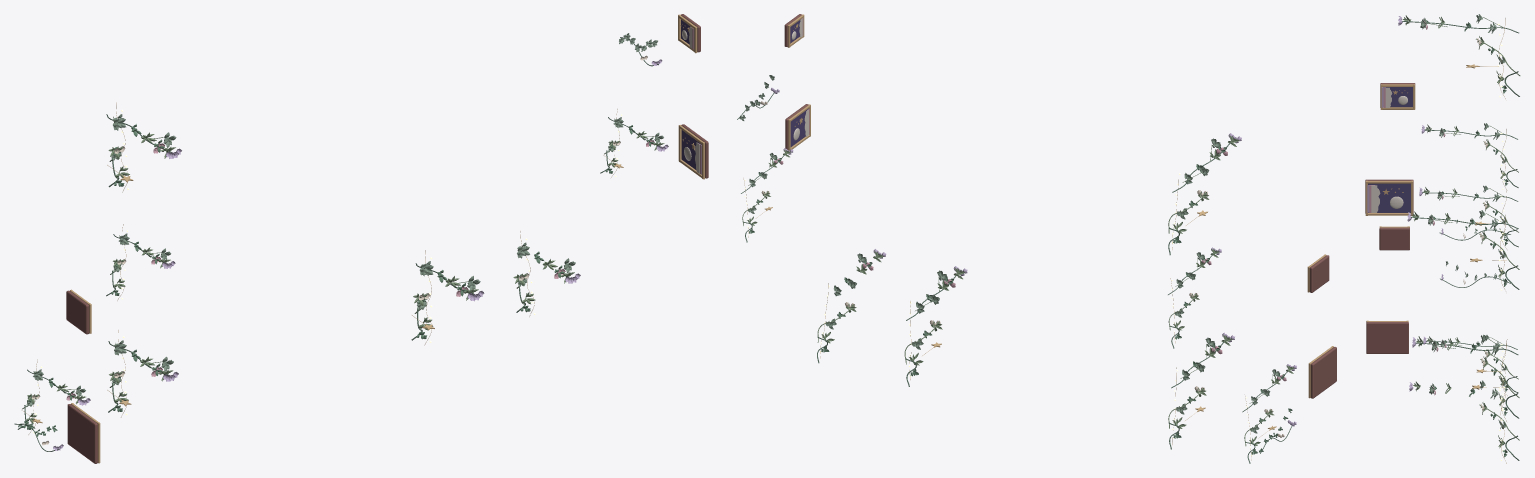
Rendered from moonroom-ceiling-wall-dressing-pass02.glb.
The picture shows the model from 3 angles, left to right: view 1: azimuth 30°, elevation 25°; view 2: azimuth 150°, elevation 25°; view 3: azimuth 270°, elevation 25°; orthographic projection. The views are drawn at different scales.
Parts seen in each view (by area): view 1: D02_BATCH__D02_WalnutFrame, D02_BATCH__D01_Leaf_MoonlitSage, D02_BATCH__D01_Leaf_DustyOlive, D02_BATCH__D01_Leaf_SageShadow, D02_BATCH__D02_AgedChampagneGilt, D02_BATCH__D01_Stem_DeepSage, D02_BATCH__D01_Flower_Lavender; view 2: D02_BATCH__D02_WalnutFrame, D02_BATCH__D01_Leaf_MoonlitSage, D02_BATCH__D01_Leaf_DustyOlive, D02_BATCH__D01_Leaf_SageShadow, D02_BATCH__D01_Stem_DeepSage, D02_BATCH__D02_AgedChampagneGilt, D02_BATCH__D01_Stem_MossSage; view 3: D02_BATCH__D02_WalnutFrame, D02_BATCH__D01_Stem_DeepSage, D02_BATCH__D02_IndigoVelvetGround, D02_BATCH__D01_Leaf_MoonlitSage, D02_BATCH__D01_Leaf_DustyOlive, D02_BATCH__D02_AgedChampagneGilt, D02_BATCH__D01_Leaf_SageShadow, D02_BATCH__D01_Stem_MossSage, D02_BATCH__D01_AgedChampagneGold, D02_BATCH__D02_IvoryMoonRelief, D02_BATCH__D01_Flower_Lavender, D02_BATCH__D01_WarmFairyBulb.
Part boxes in pixels (x1,y1,x2,y2): D02_BATCH__D02_WalnutFrame: (66,14,708,463); D02_BATCH__D01_Leaf_MoonlitSage: (26,33,663,406); D02_BATCH__D01_Leaf_DustyOlive: (26,131,664,422); D02_BATCH__D01_Leaf_SageShadow: (18,124,654,436); D02_BATCH__D02_AgedChampagneGilt: (70,14,704,463); D02_BATCH__D01_Stem_DeepSage: (14,37,660,451); D02_BATCH__D01_Flower_Lavender: (53,59,668,450); D02_BATCH__D02_WalnutFrame: (784,14,1336,398); D02_BATCH__D01_Leaf_MoonlitSage: (739,75,1280,433); D02_BATCH__D01_Leaf_DustyOlive: (747,135,1294,445); D02_BATCH__D01_Leaf_SageShadow: (749,145,1292,454); D02_BATCH__D01_Stem_DeepSage: (737,92,1291,463); D02_BATCH__D02_AgedChampagneGilt: (787,14,1333,398); D02_BATCH__D01_Stem_MossSage: (742,145,1272,446); D02_BATCH__D02_WalnutFrame: (1365,83,1415,353); D02_BATCH__D01_Stem_DeepSage: (1402,21,1519,460); D02_BATCH__D02_IndigoVelvetGround: (1368,87,1412,212); D02_BATCH__D01_Leaf_MoonlitSage: (1420,14,1506,429); D02_BATCH__D01_Leaf_DustyOlive: (1402,15,1506,448); D02_BATCH__D02_AgedChampagneGilt: (1365,84,1415,321); D02_BATCH__D01_Leaf_SageShadow: (1422,19,1508,457); D02_BATCH__D01_Stem_MossSage: (1428,17,1520,440); D02_BATCH__D01_AgedChampagneGold: (1466,18,1507,463); D02_BATCH__D02_IvoryMoonRelief: (1371,87,1407,212); D02_BATCH__D01_Flower_Lavender: (1398,16,1443,391); D02_BATCH__D01_WarmFairyBulb: (1497,23,1504,460).
Bounding box in the file's own units: 19.65 × 9.92 × 5.
